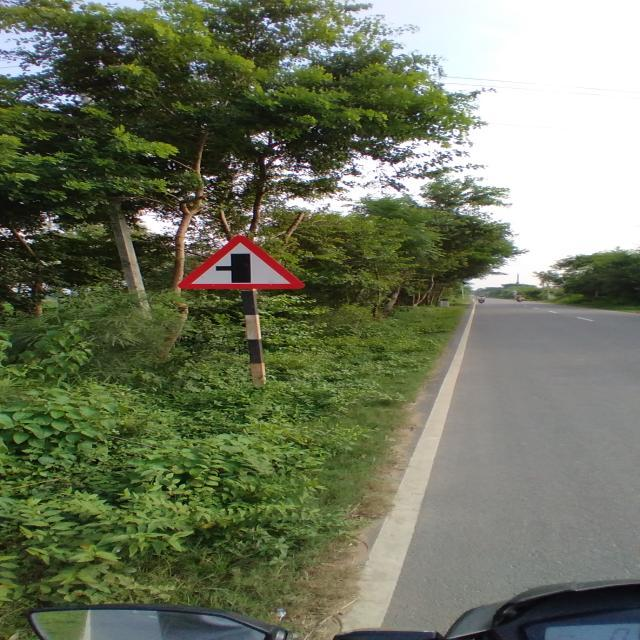side road left: (176, 237, 302, 290)
